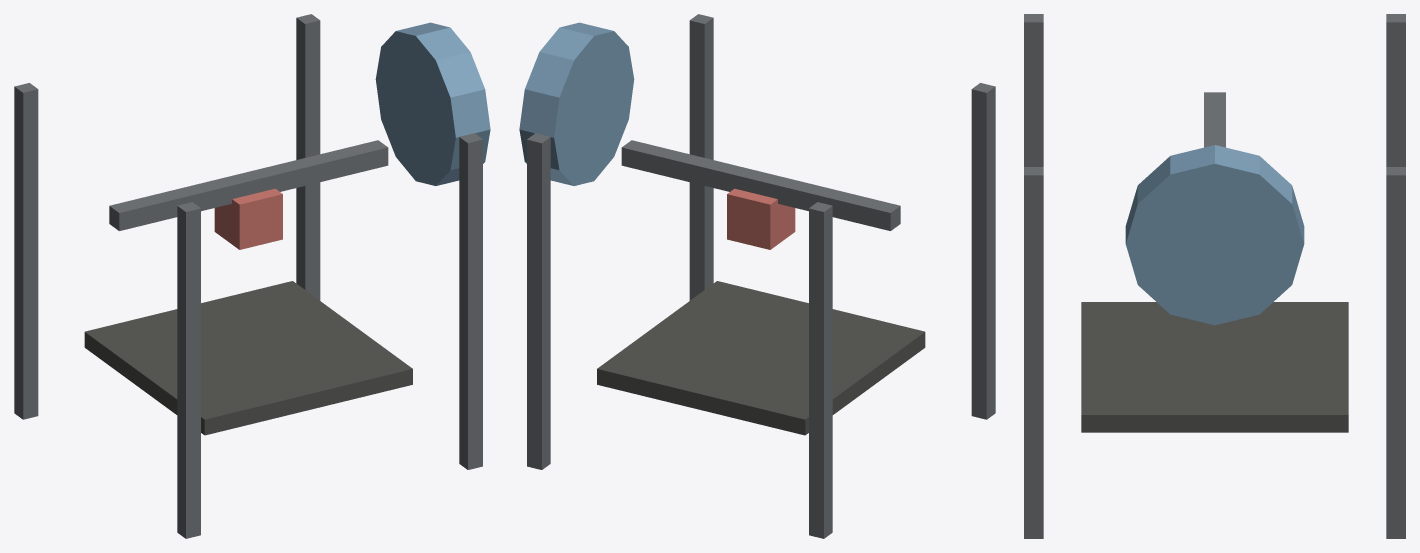
Rendered from 3d_printer_01.glb.
3 renders of one model, left to right at view 1: azimuth 30°, elevation 25°; view 2: azimuth 150°, elevation 25°; view 3: azimuth 270°, elevation 25°, orthographic. The views are drawn at different scales.
Parts seen in each view (by area): view 1: bed, spool, post-0.325-0.325, post-0.3250.325, post0.3250.325, gantry, post0.325-0.325, head; view 2: bed, spool, post-0.3250.325, post-0.325-0.325, post0.325-0.325, gantry, post0.3250.325, head; view 3: bed, spool, post0.325-0.325, post0.3250.325, post-0.325-0.325, post-0.3250.325, gantry.
Boxes of the visible parts, bbox=[...] form: bed: bbox=[84, 281, 412, 435]; spool: bbox=[375, 22, 490, 185]; post-0.325-0.325: bbox=[14, 83, 38, 419]; post-0.3250.325: bbox=[177, 202, 200, 538]; post0.3250.325: bbox=[459, 133, 482, 469]; gantry: bbox=[109, 140, 388, 230]; post0.325-0.325: bbox=[296, 14, 320, 300]; head: bbox=[214, 188, 282, 249]; bed: bbox=[597, 281, 925, 435]; spool: bbox=[519, 22, 634, 185]; post-0.3250.325: bbox=[971, 83, 995, 419]; post-0.325-0.325: bbox=[809, 202, 832, 538]; post0.325-0.325: bbox=[527, 133, 550, 469]; gantry: bbox=[621, 140, 900, 230]; post0.3250.325: bbox=[689, 14, 713, 300]; head: bbox=[727, 188, 795, 249]; bed: bbox=[1081, 302, 1348, 432]; spool: bbox=[1125, 145, 1304, 325]; post0.325-0.325: bbox=[1386, 167, 1405, 538]; post0.3250.325: bbox=[1024, 167, 1043, 538]; post-0.325-0.325: bbox=[1386, 14, 1405, 166]; post-0.3250.325: bbox=[1024, 14, 1043, 166]; gantry: bbox=[1204, 92, 1225, 147].
Bounding box in the file's own units: 0.8075 × 0.8 × 0.685.
